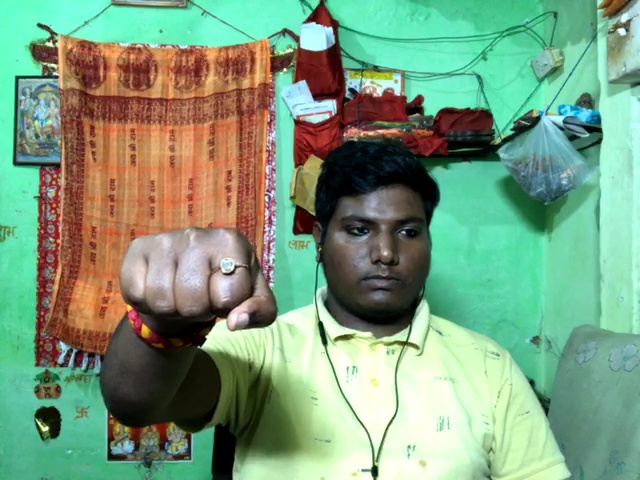Yes: (83, 215, 303, 354)
